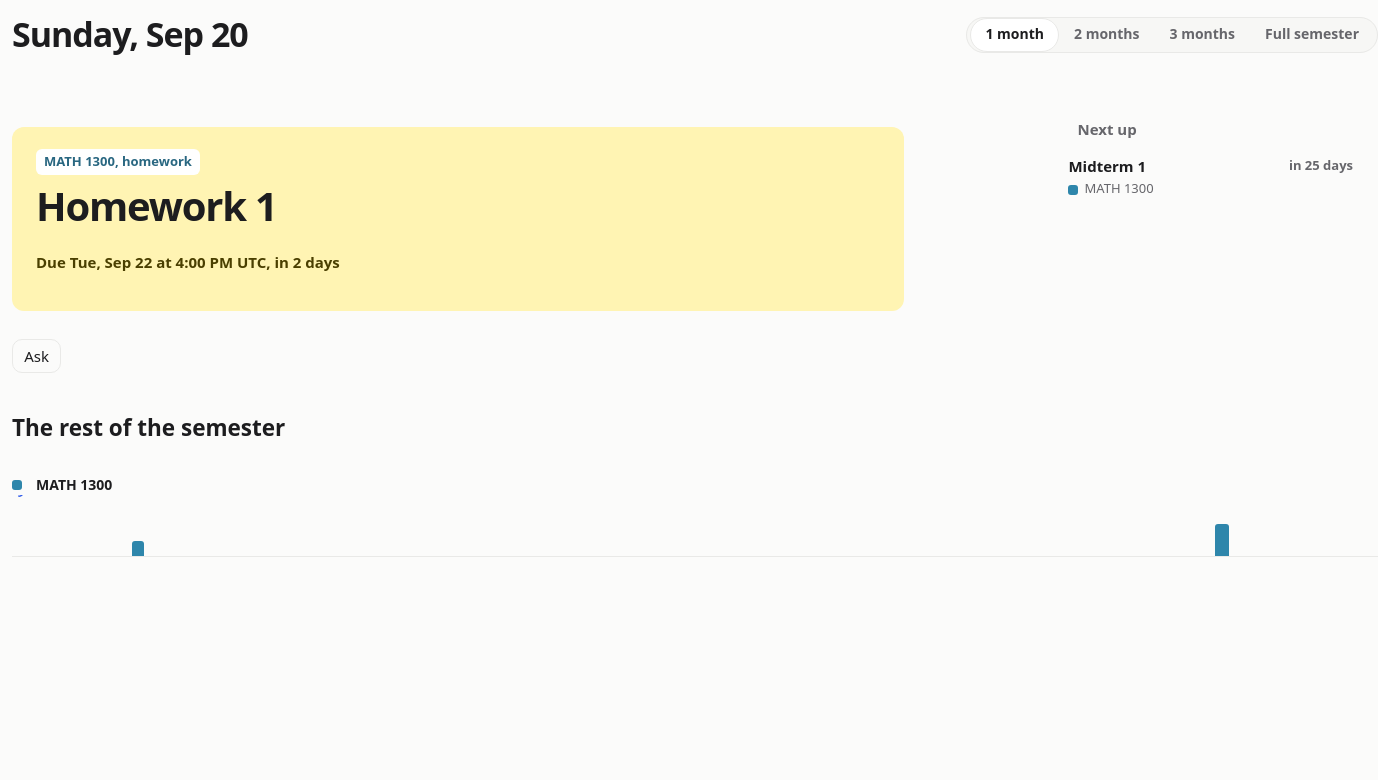
Test: HomeView › replaces the ranked subject while an Ask is open
Expected: the button "Homework 1" is shown, x1=36 y1=185 x2=277 y2=227
Click the button "Ask": [37, 356] box x1=12 y1=339 x2=61 y2=373
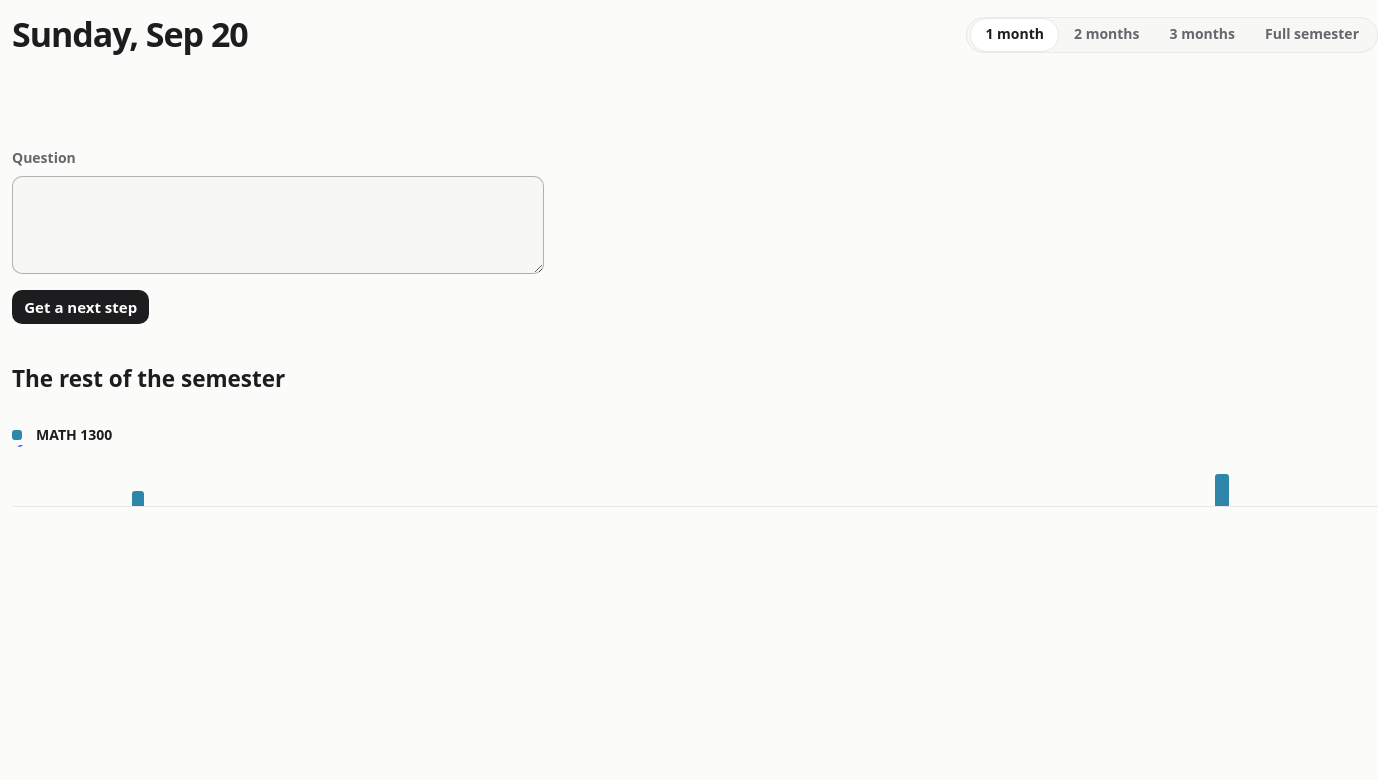
Result: the button "Homework 1" is gone
Result: the heading "Next up" is gone
In the text box: [278, 225] box x1=12 y1=176 x2=544 y2=274, type "Find the derivative of x^2"
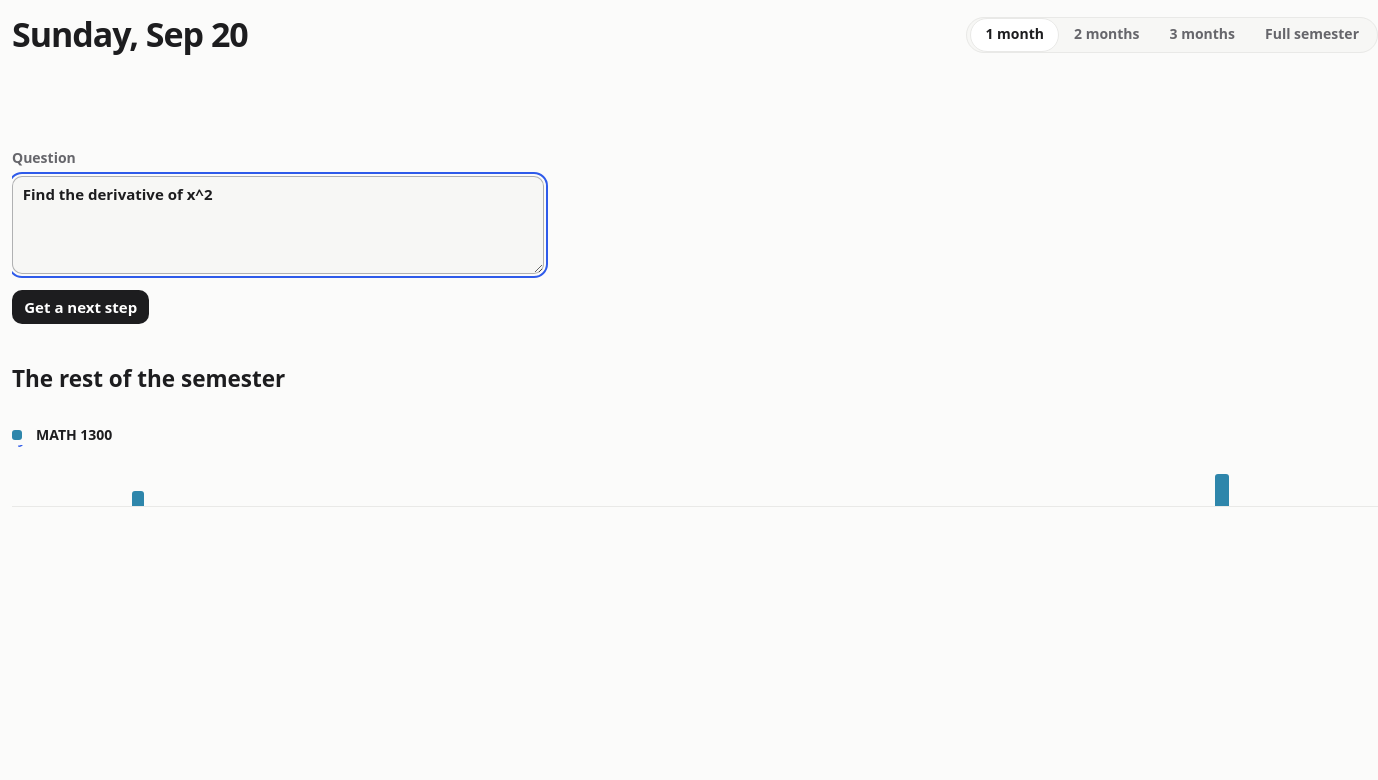
Click the button "Get a next step": [81, 307] box x1=12 y1=290 x2=149 y2=324
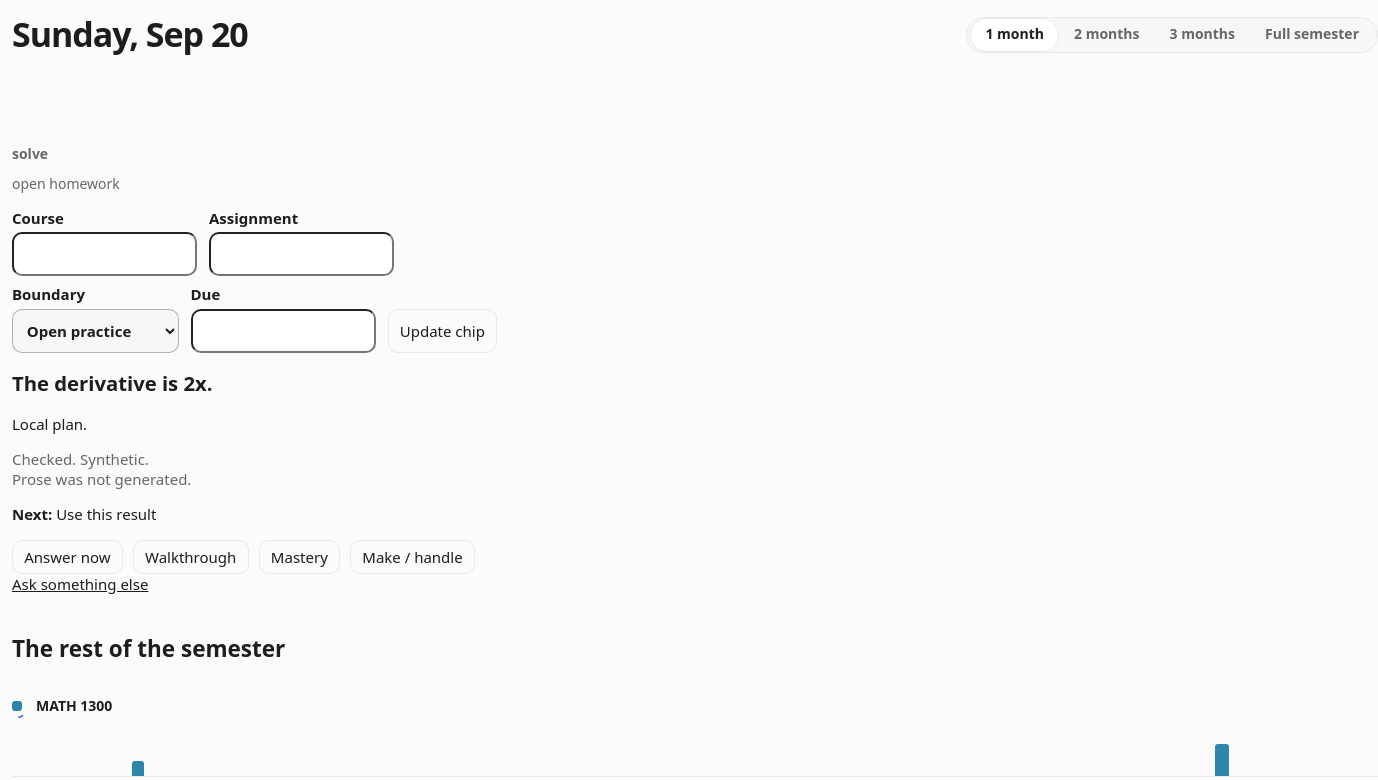
Expected: the button "Homework 1" is not shown
Result: the heading "The derivative is 2x." is shown at x1=12 y1=368 x2=212 y2=396
